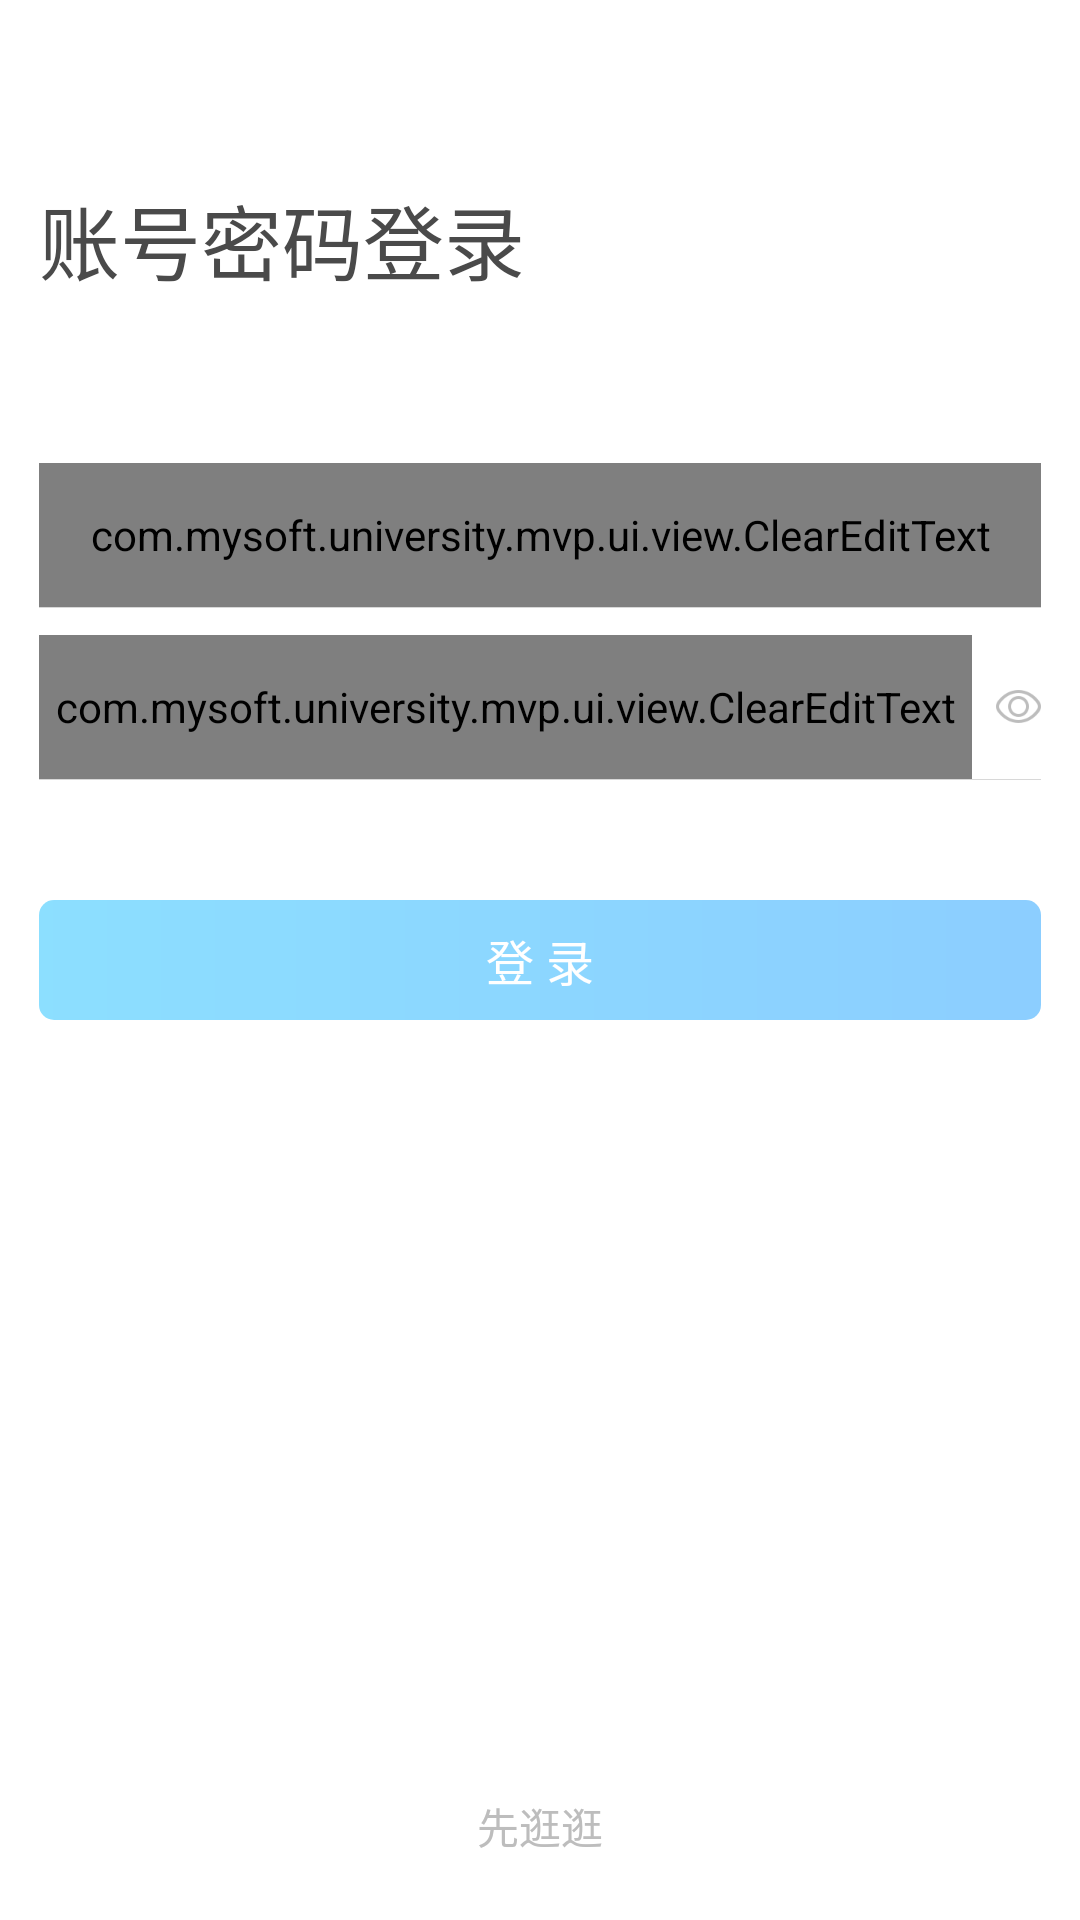

Point at icon controls on the screen. Image size 1080×1920, points as (x,y).
toggle password: (1018,706)
